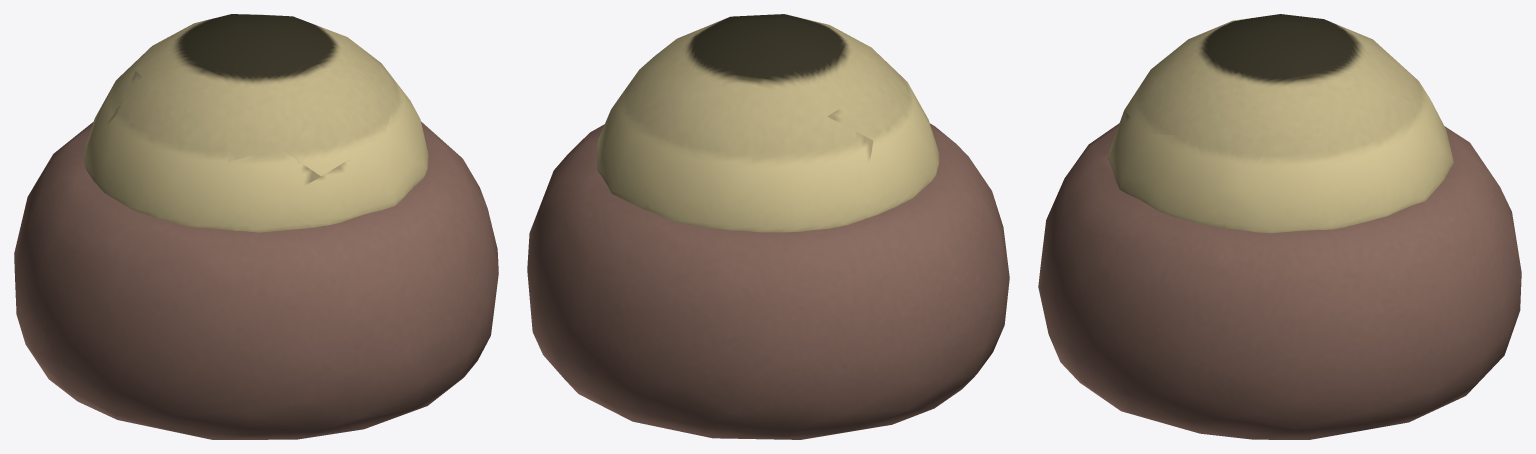
Rendered from cpart_eye.glb.
3 renders of one model, left to right at view 1: azimuth 30°, elevation 25°; view 2: azimuth 150°, elevation 25°; view 3: azimuth 270°, elevation 25°, orthographic.
Parts seen in each view (by area): view 1: Lid, Eye; view 2: Lid, Eye; view 3: Lid, Eye.
Part boxes in pixels (left/top/right/bottom): Lid: left=14, top=121, right=498, bottom=439; Eye: left=83, top=14, right=428, bottom=232; Lid: left=527, top=123, right=1009, bottom=439; Eye: left=597, top=14, right=939, bottom=232; Lid: left=1038, top=123, right=1521, bottom=439; Eye: left=1108, top=14, right=1453, bottom=233.
Bounding box in the file's own units: 0.1234 × 0.0908 × 0.1237.
Materials: 2 (2 with a texture image).
